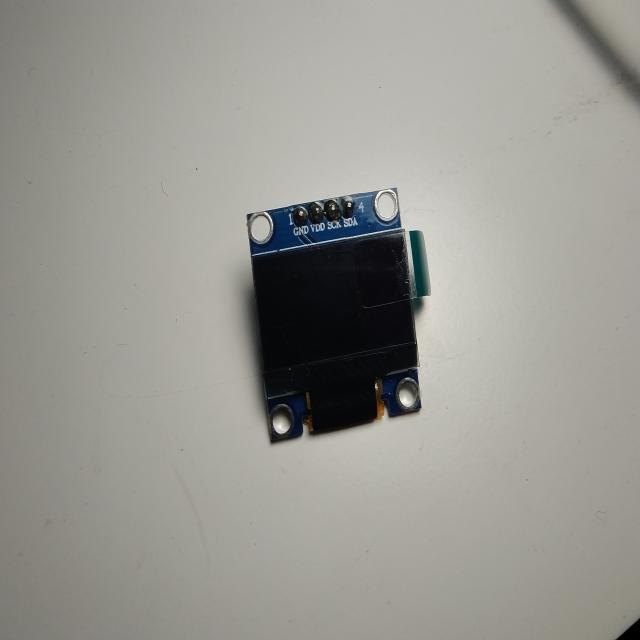oled: (243, 178, 442, 452)
